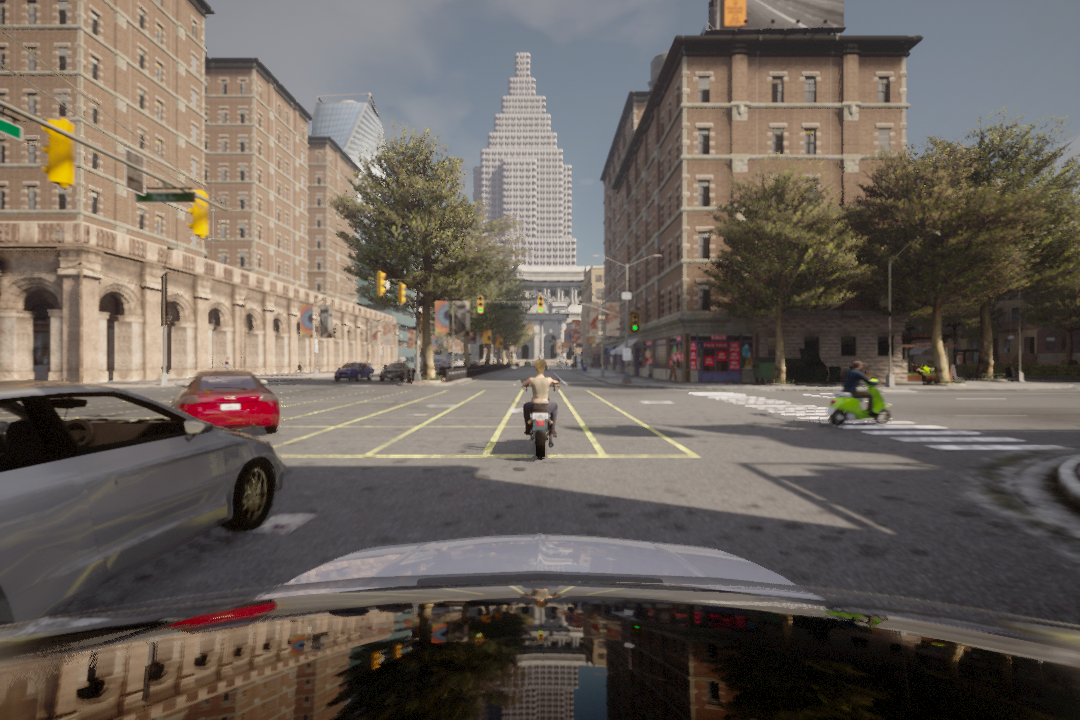TrafficLight: (475, 294, 489, 318), (631, 312, 641, 334), (535, 294, 544, 315)
